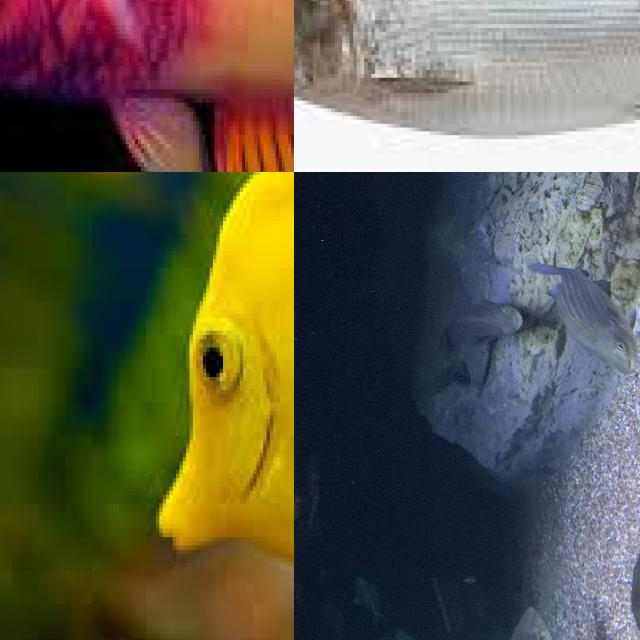fish: (0, 172, 294, 640), (294, 0, 640, 172), (0, 0, 294, 172)
